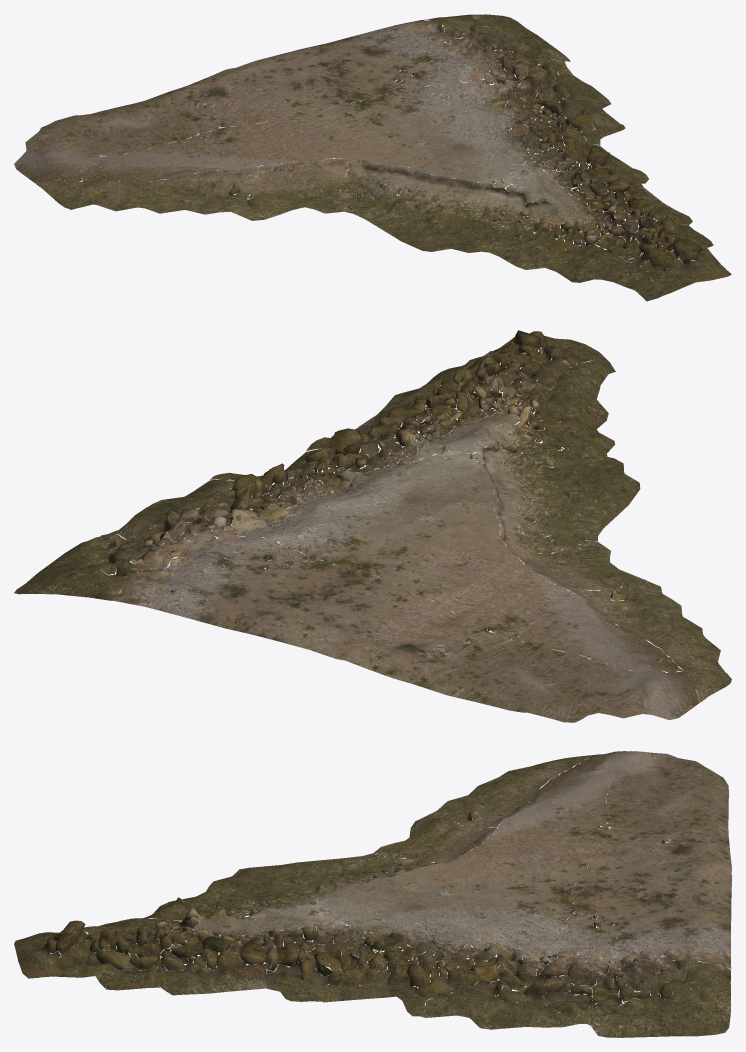
The model's file is coast_rocks_02.glb.
The picture shows the model from 3 angles, top to bottom: view 1: azimuth 30°, elevation 25°; view 2: azimuth 150°, elevation 25°; view 3: azimuth 270°, elevation 25°; orthographic projection. The views are drawn at different scales.
Visible parts, largest first — view 1: coast_rocks_02; view 2: coast_rocks_02; view 3: coast_rocks_02.
Boxes of the visible parts, box(x1,y1,x2,y2) form: coast_rocks_02: box(14, 14, 731, 301); coast_rocks_02: box(14, 330, 731, 722); coast_rocks_02: box(14, 751, 731, 1037).
Size of the model in its own units: 45.97 by 3.16 by 49.47.
Materials: 1 (1 with a texture image).
